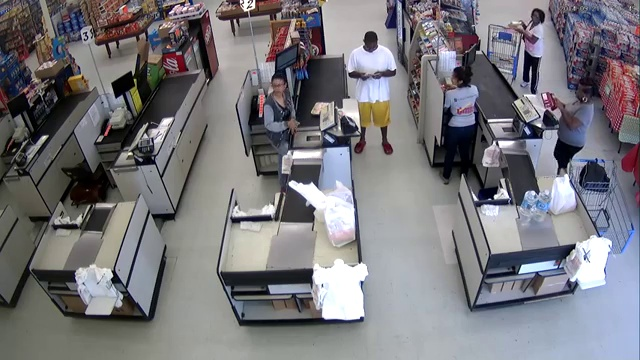face: (365, 37, 380, 54), (575, 84, 588, 100), (272, 80, 283, 95), (532, 11, 541, 24)
